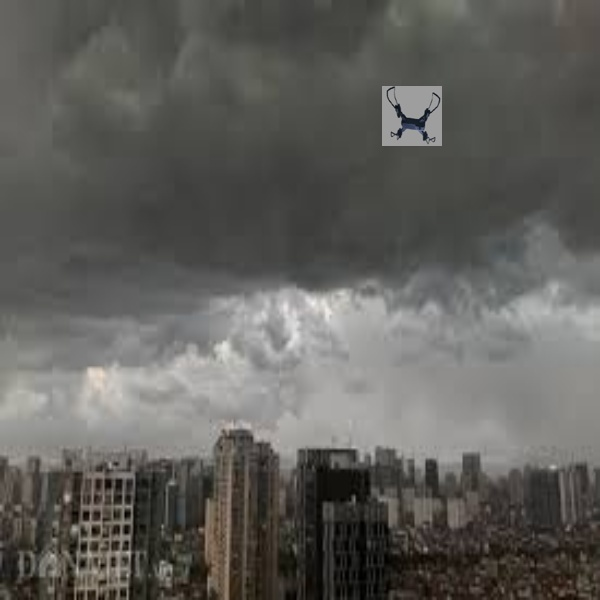drone: (380, 85, 445, 145)
